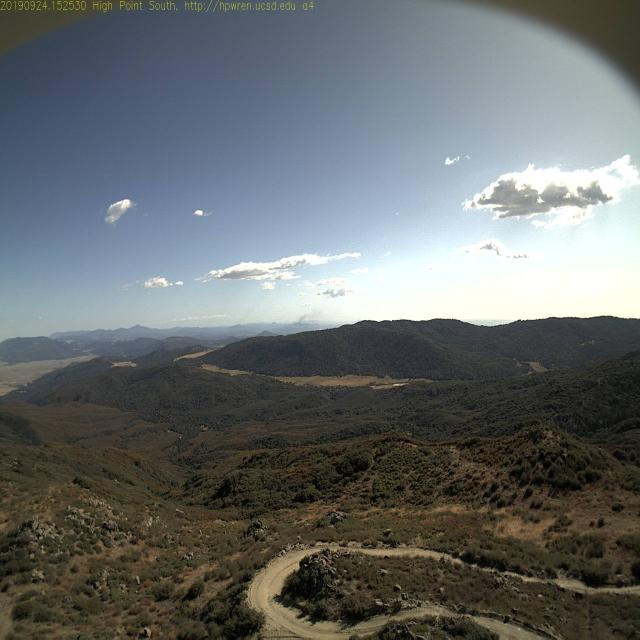smoke: (289, 306, 320, 324)
